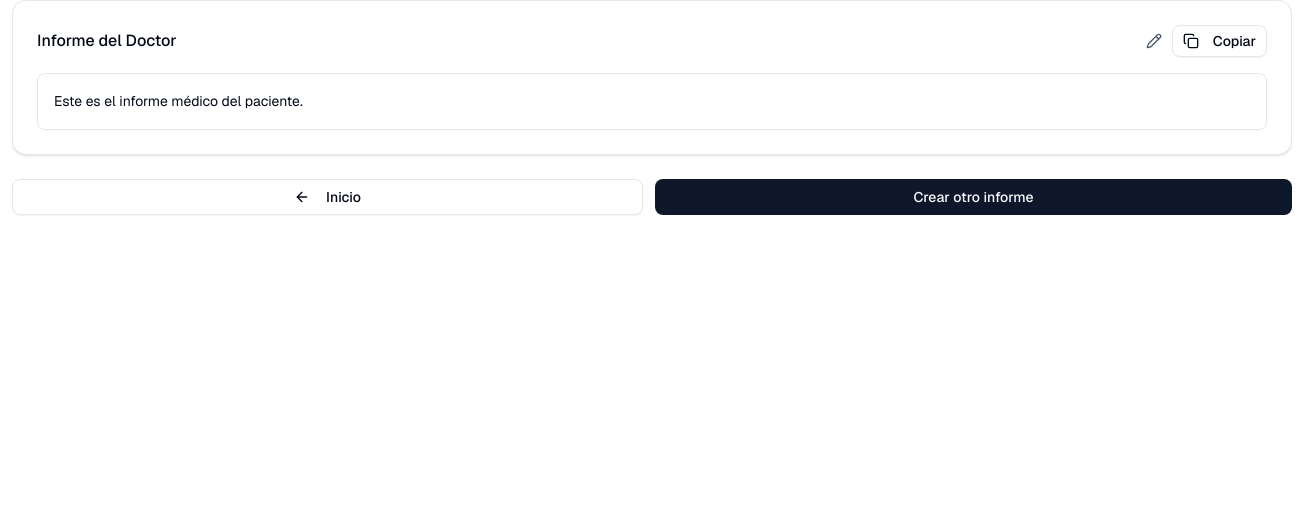
Test: QuickInformeResult › cancels editing and reverts to display mode
Step 1. Click the button named "Editar informe" → click(1154, 41), box [1140,27,1168,55]
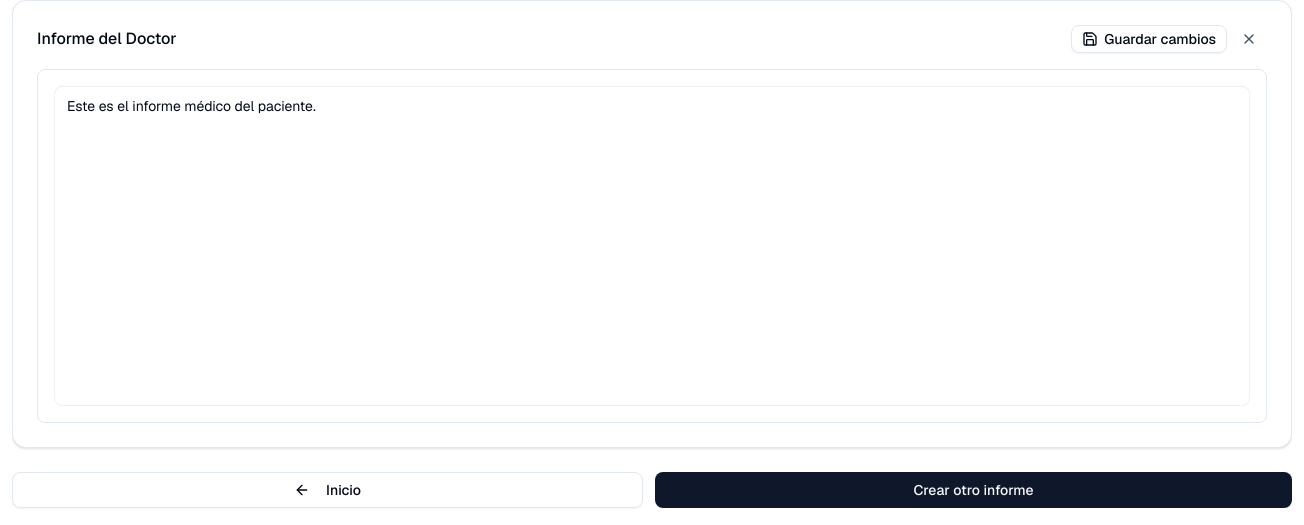
Expected: the field is shown, [67,97,316,115]
Step 2. Click the 2nd button → click(1249, 39), box [1231,25,1267,53]
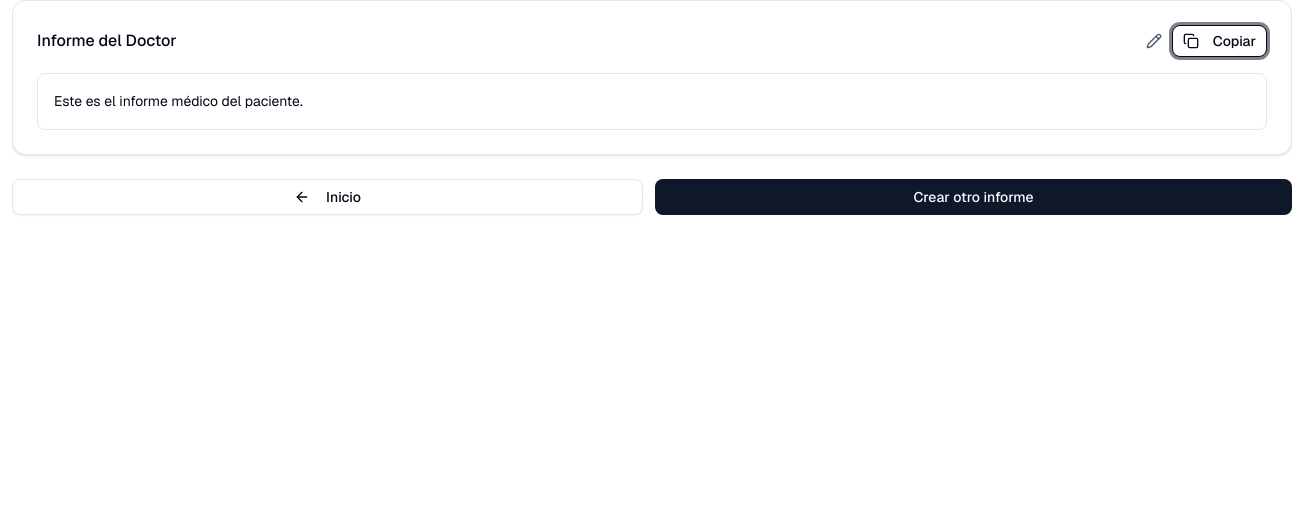
Expected: the text "Este es el informe médico del paciente." is shown, [54,92,303,110]
Expected: the field is gone
